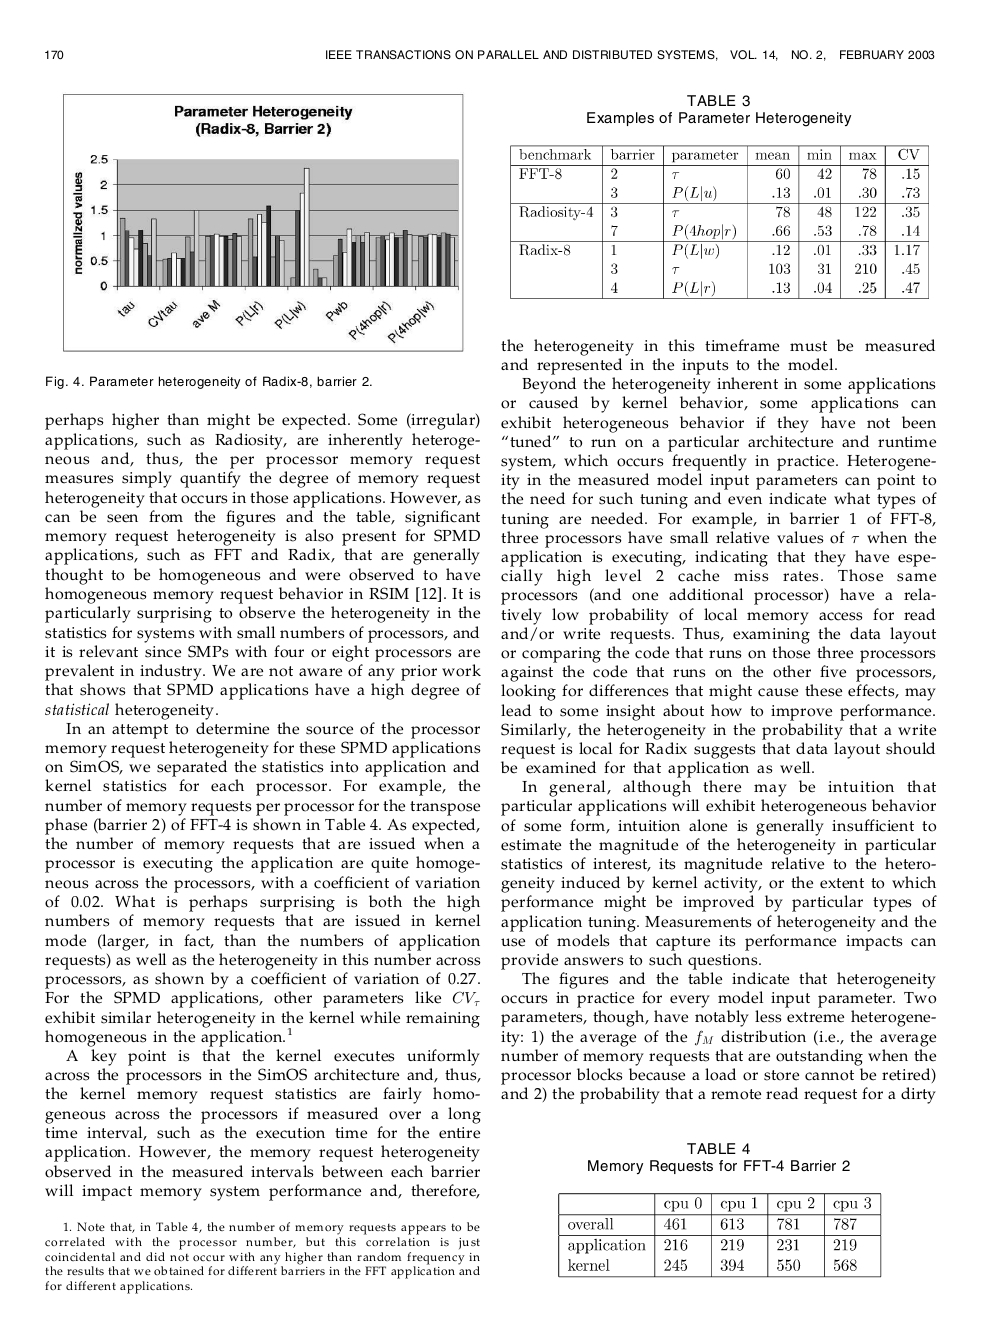Table: (510, 144, 928, 299), (558, 1191, 881, 1278)
figure: (63, 92, 463, 352)
